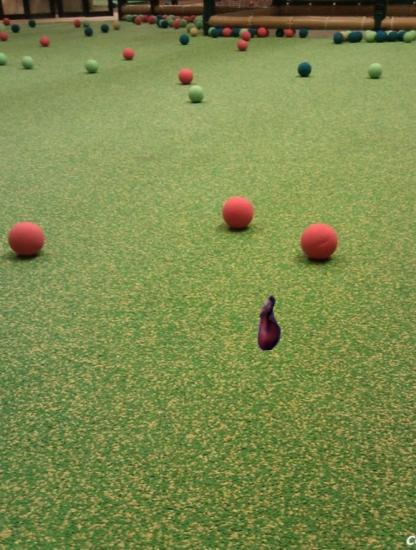Banana: (241, 296, 296, 351)
